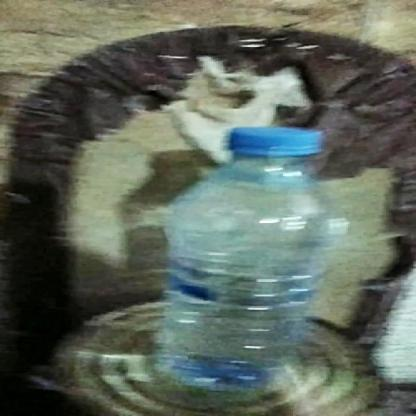Plastic Bottle: (160, 127, 328, 391)
